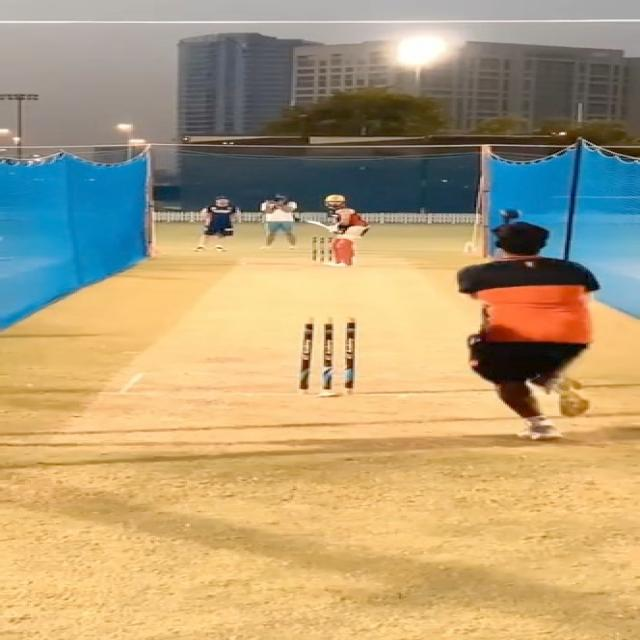batsman: (306, 194, 372, 268)
